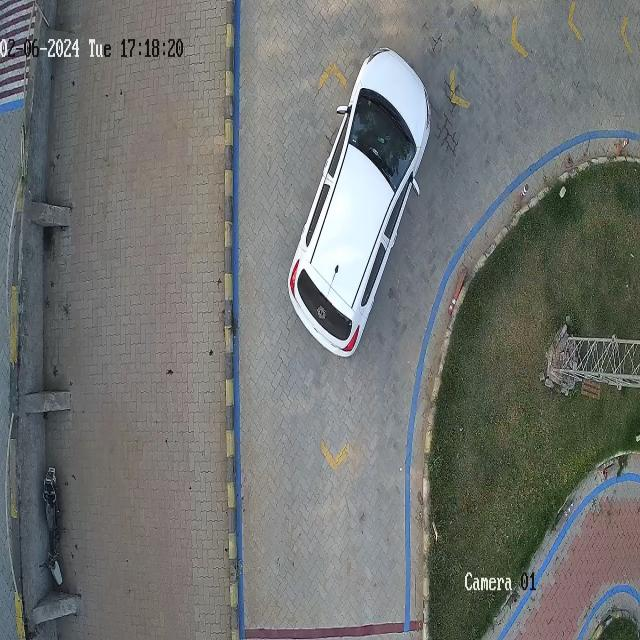car: (289, 49, 430, 356)
